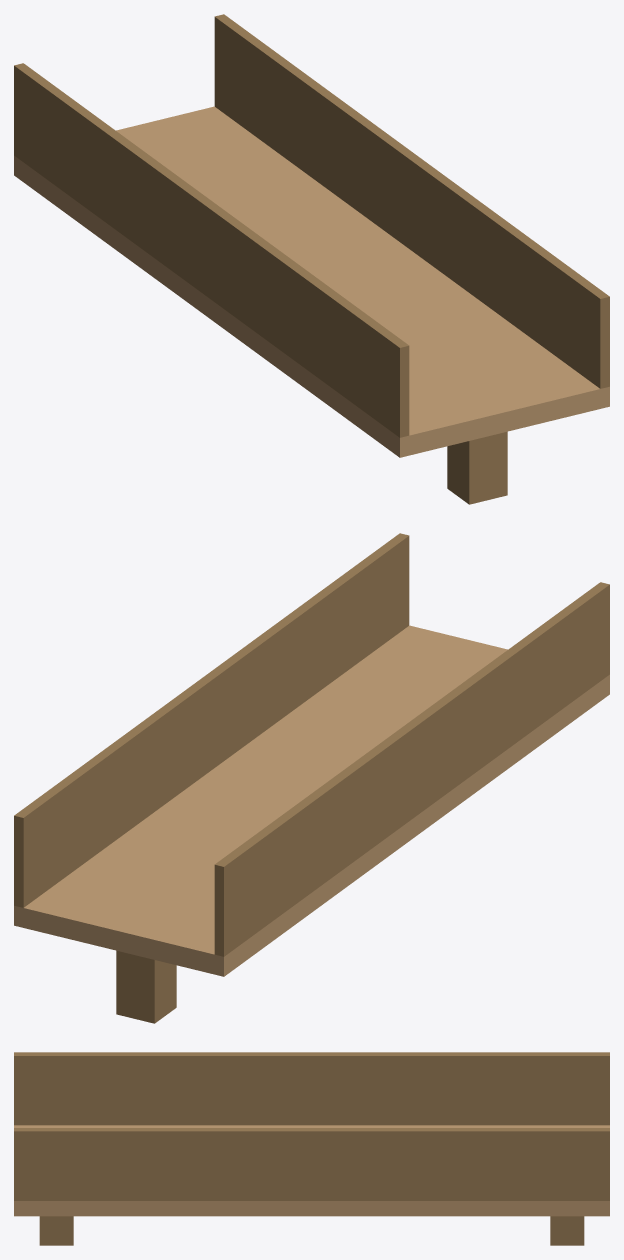
File: kladka.glb
3 views of the same model, one above another, from view 1: azimuth 30°, elevation 25°; view 2: azimuth 150°, elevation 25°; view 3: azimuth 270°, elevation 25° (orthographic). The views are drawn at different scales.
Visible parts, largest first — view 1: walkable_deck, rail_right, rail_left, post_b; view 2: walkable_deck, rail_right, rail_left, post_a; view 3: rail_left, rail_right, walkable_deck, post_a, post_b.
Boxes of the visible parts, x1,y1,x2,y2 form: walkable_deck: (14,106,609,457); rail_right: (214,14,609,388); rail_left: (14,63,409,437); post_b: (447,431,507,504); walkable_deck: (14,625,609,976); rail_right: (14,533,409,907); rail_left: (214,582,609,956); post_a: (116,950,176,1023); rail_left: (14,1052,609,1125); rail_right: (14,1128,609,1200); walkable_deck: (14,1125,609,1216); post_a: (550,1216,584,1245); post_b: (39,1216,73,1245).
Bounding box in the file's own units: 2.2 × 1.9 × 7.
